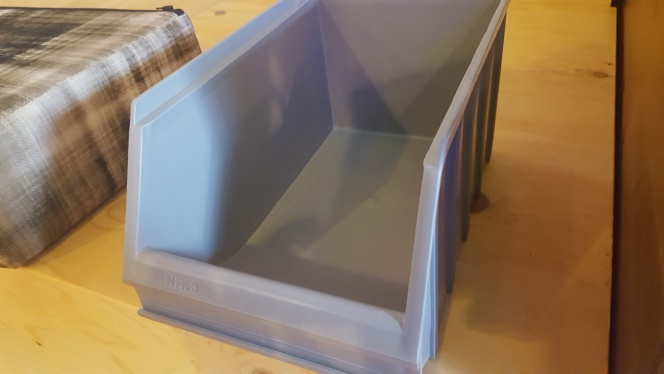tray_front: (121, 87, 446, 374)
